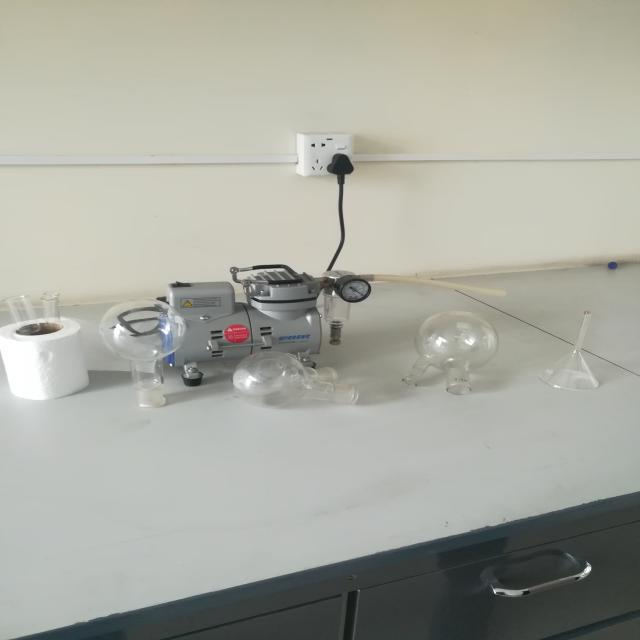Funnel: (536, 288, 628, 428)
Round_Bottom_Flask_Borosilicate_Glass_1_Neck: (76, 284, 194, 424)
Round_Bottom_Flask_Borosilicate_Glass_2_Neck: (396, 286, 509, 412)
Round_Bottom_Flask_Borosilicate_Glass_3_Neck: (213, 316, 380, 449)
